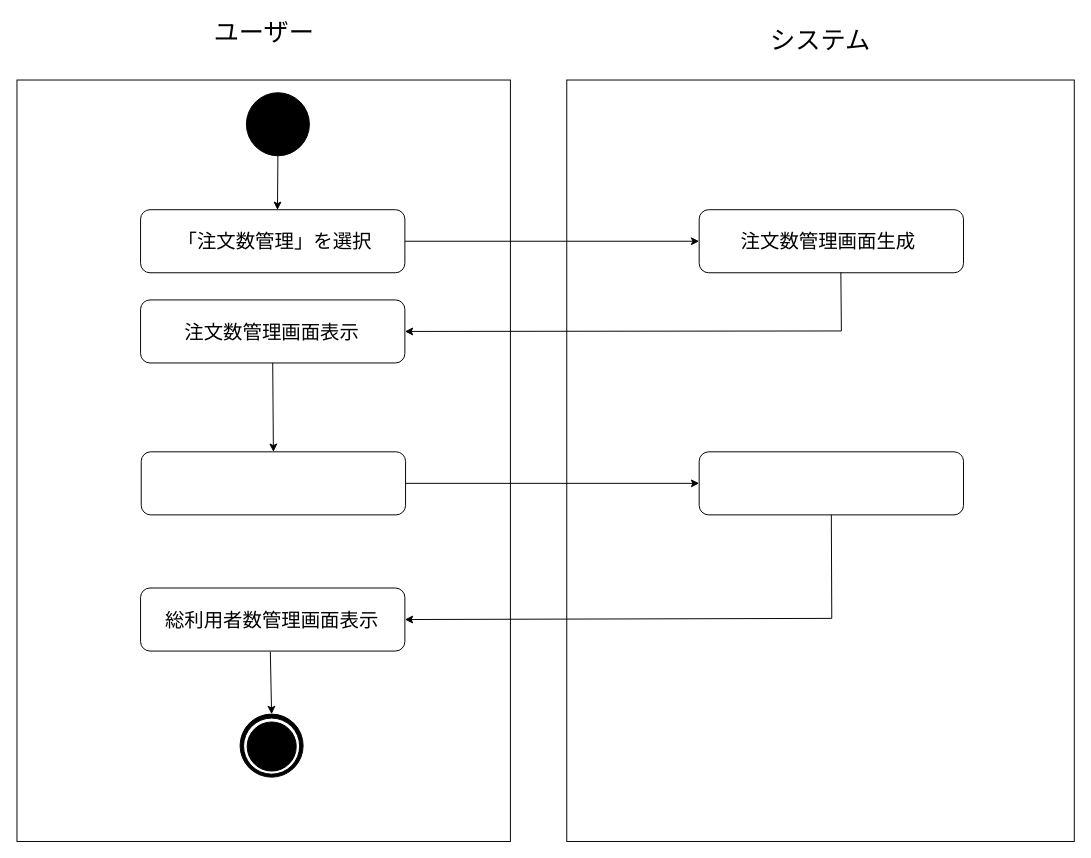
Image size: 1091x858. Some labels were removed from this diagram. Each missing label, with the centre of its shape:
「総利用者数」を選択: (273,483)
総利用者数管理画面生成: (831,483)
